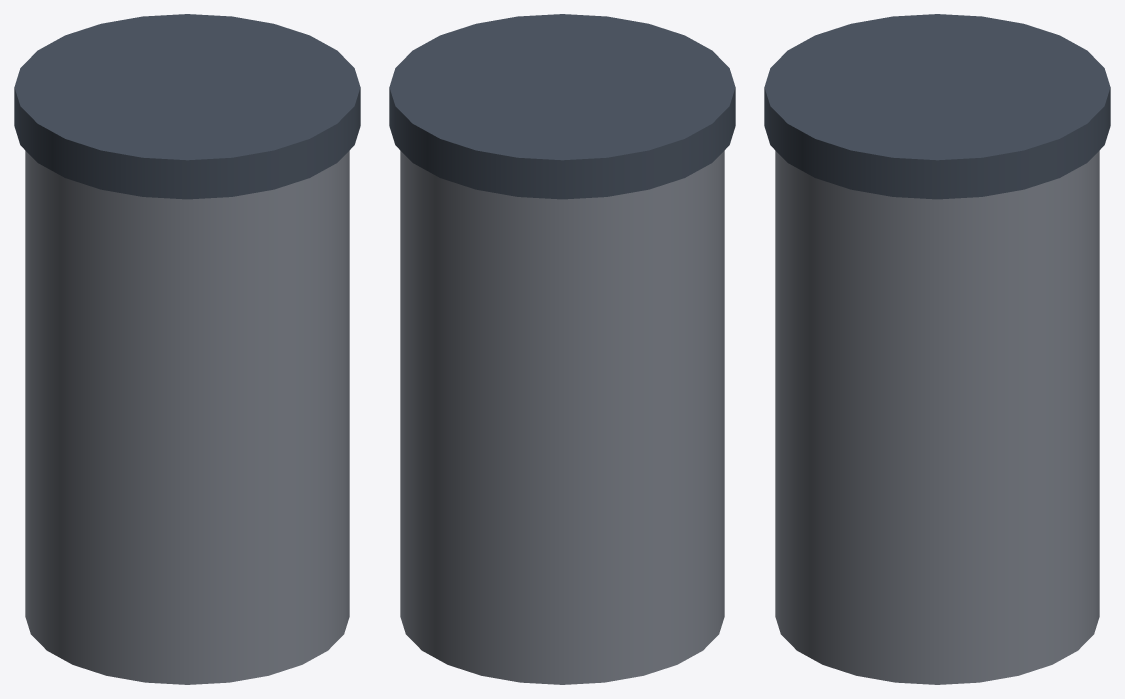
The model's file is fixture-boiler-v1.glb.
3 renders of one model, left to right at view 1: azimuth 30°, elevation 25°; view 2: azimuth 150°, elevation 25°; view 3: azimuth 270°, elevation 25°, orthographic.
Size of the model in its own units: 0.64 by 1.08 by 0.64.
